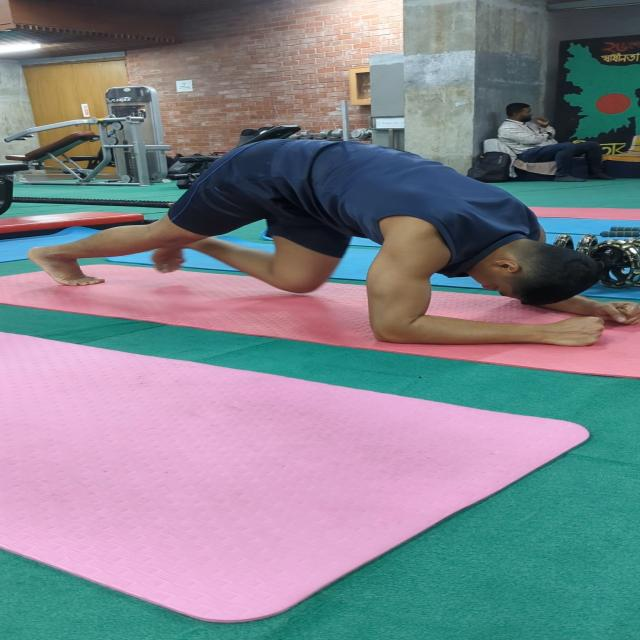Normal_MountainClimbers: (12, 124, 640, 378)
